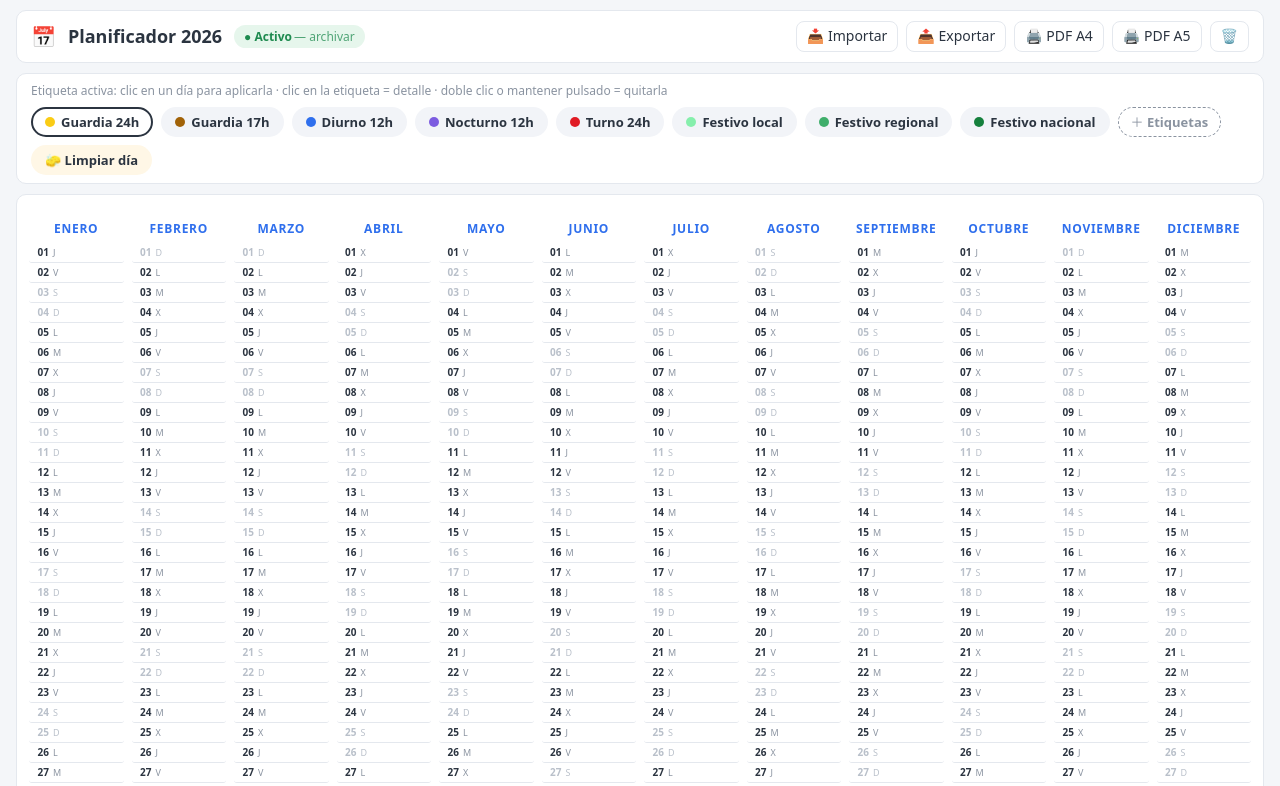
Test: stats update › counts the applied tag in the footer
The image size is (1280, 786).
What coordinates should you click on to do the following:
click the 1st text with class "day__number"
I would click on:
 (43, 252)
Its box is [38,245,49,259].
(page scrolled)
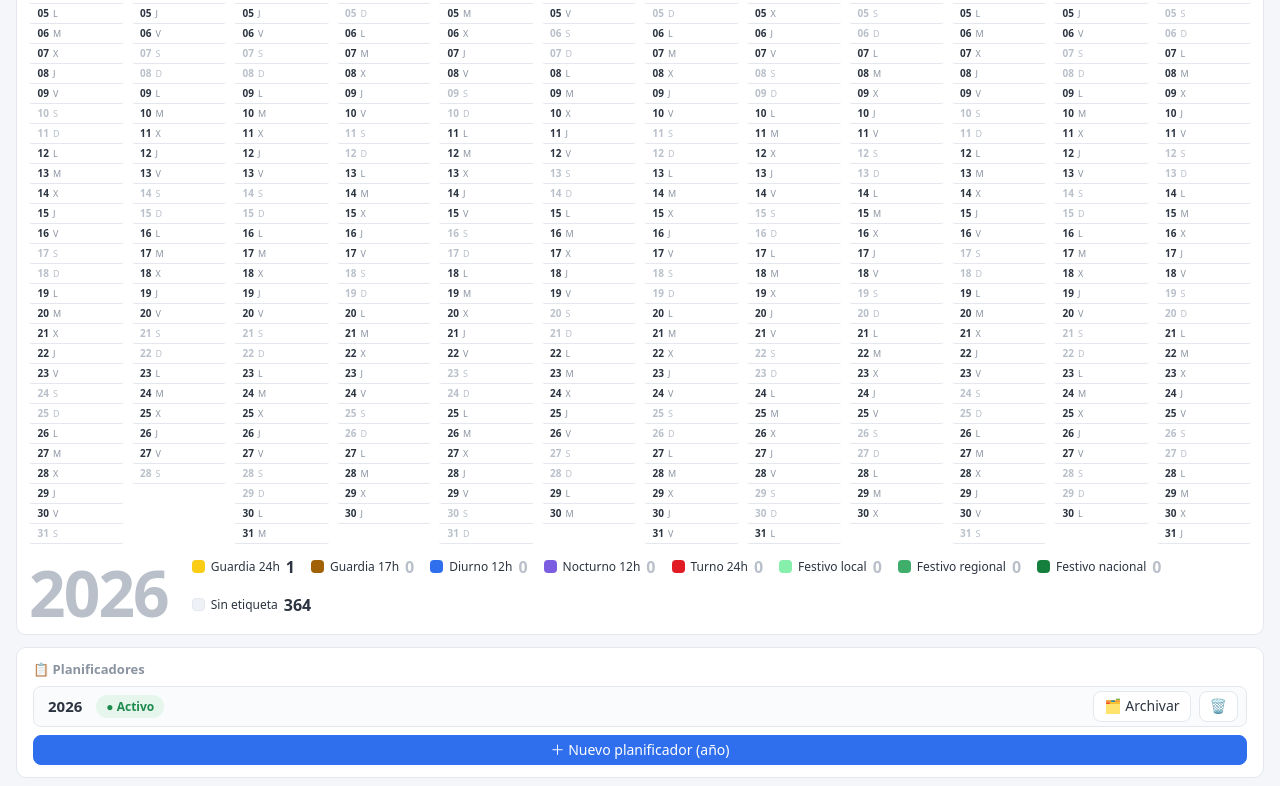
Check: the text with class "stats__count" reads "1", box [286,556,295,578]
